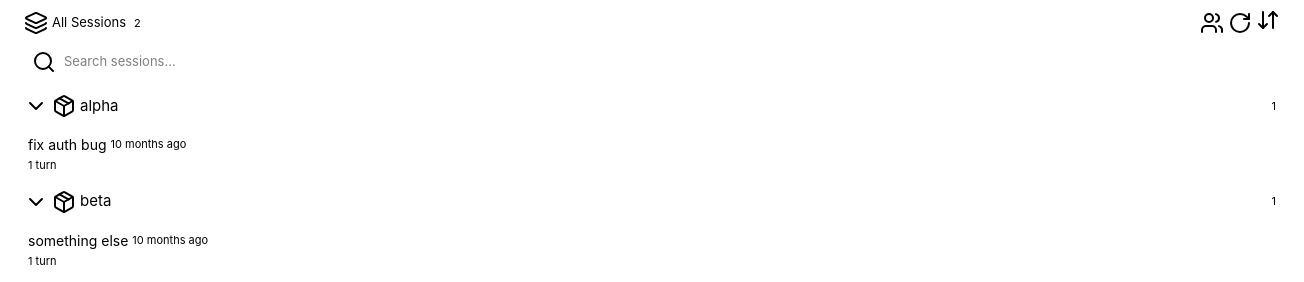
Test: SessionsNavigation: search filtering › the clear button resets the search and restores every project
The width and height of the screenshot is (1304, 282).
In the field named "Search sessions": (668, 62) top-left (64, 52), bottom-right (1272, 72), type "auth"
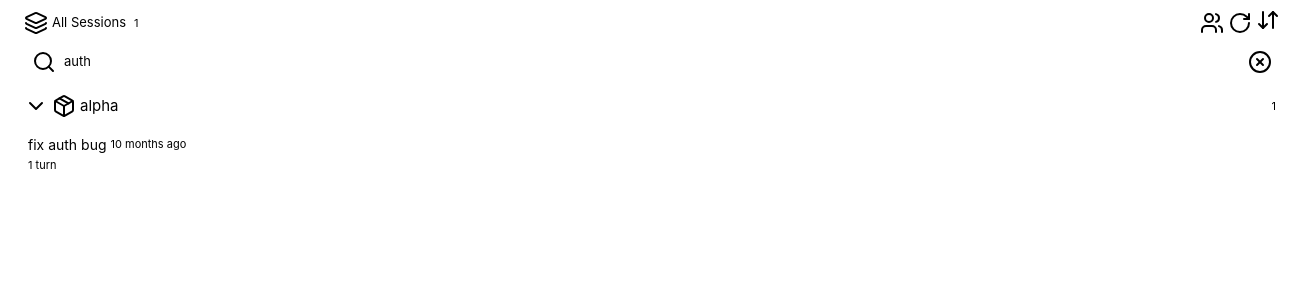
Now the text "beta" is gone
Click the button named "Clear search": (1260, 62) top-left (1248, 50), bottom-right (1272, 74)
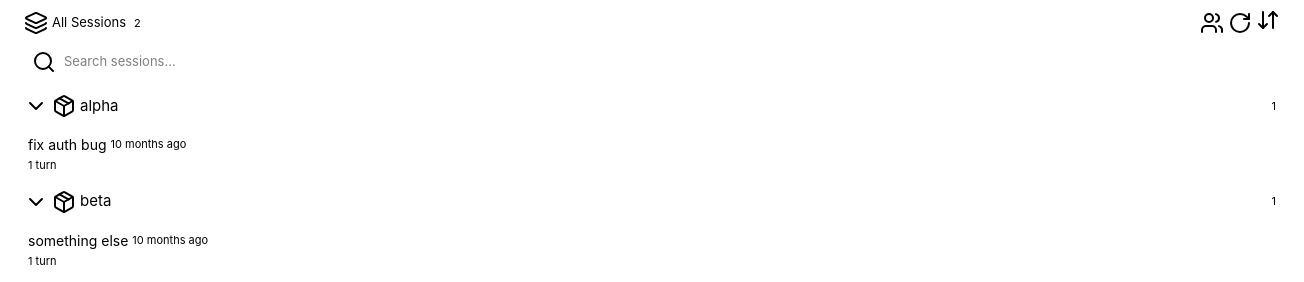
Now the text "beta" is shown, box top-left (80, 191), bottom-right (111, 210)
